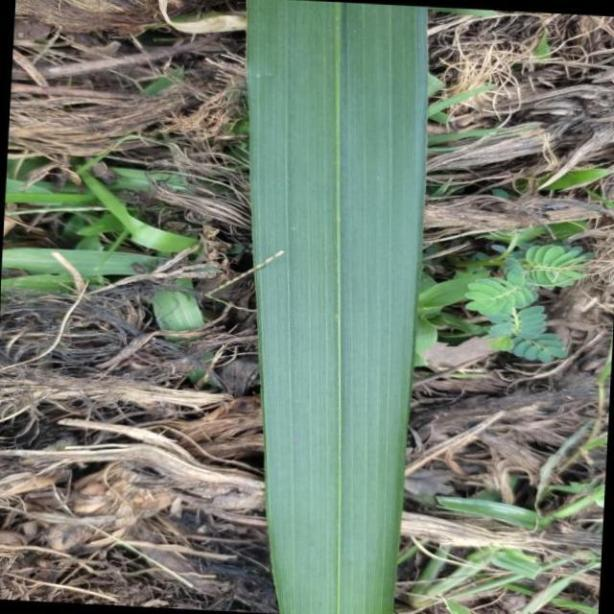Healthy: (245, 0, 430, 614)
